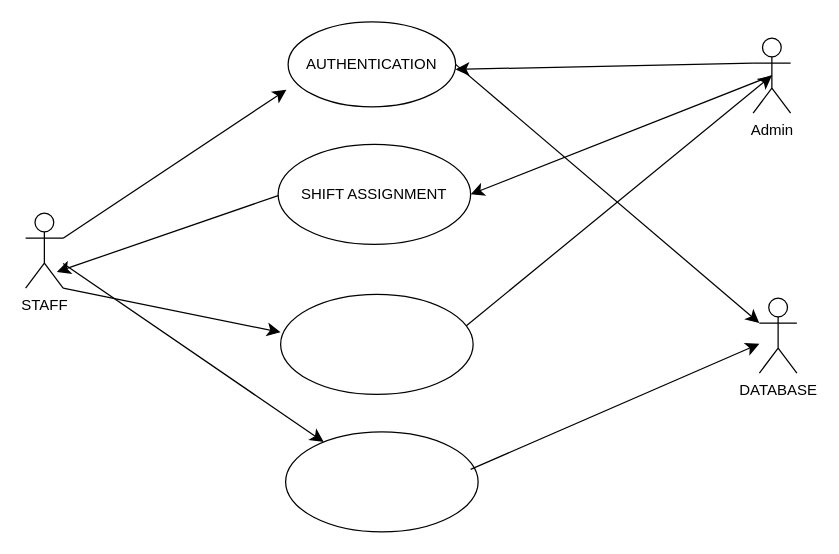
Image size: 839x554. Some labels were removed from this diagram. The centre of each missing label's shape, as x and y in pixels:
"REQUEST/EDIT SHIFTS" goes at pixel 376 343.
"WORKING REPORT" goes at pixel 381 481.
